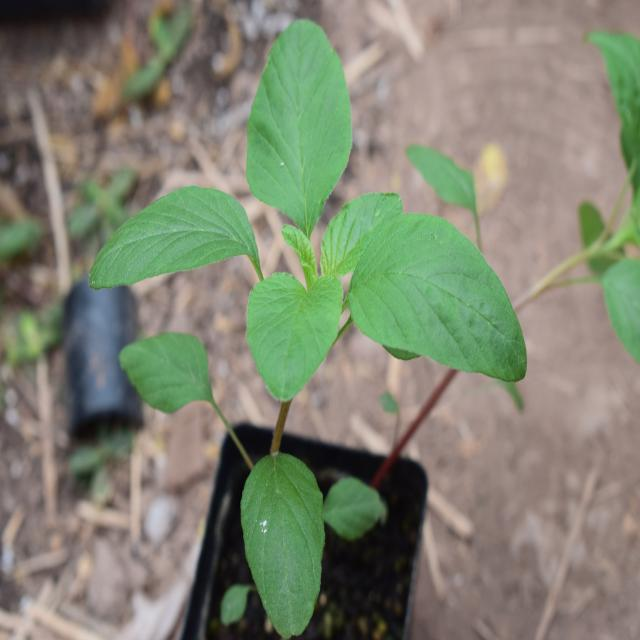pigweed: (116, 48, 509, 566)
